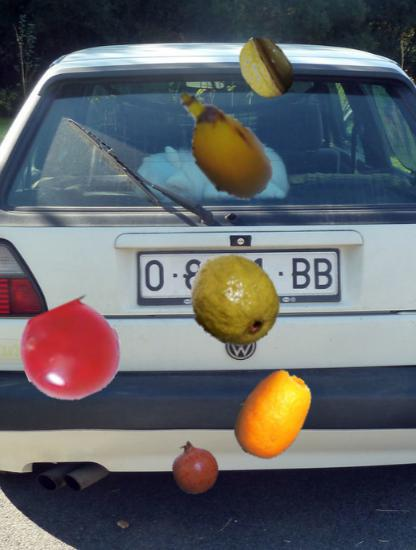Banana: (158, 81, 285, 208)
Carambula: (233, 35, 298, 100)
Guava: (184, 251, 283, 350)
Kumquats: (226, 369, 320, 463)
Pomegranate: (167, 440, 222, 495)
Redcurrant: (21, 302, 121, 402)
